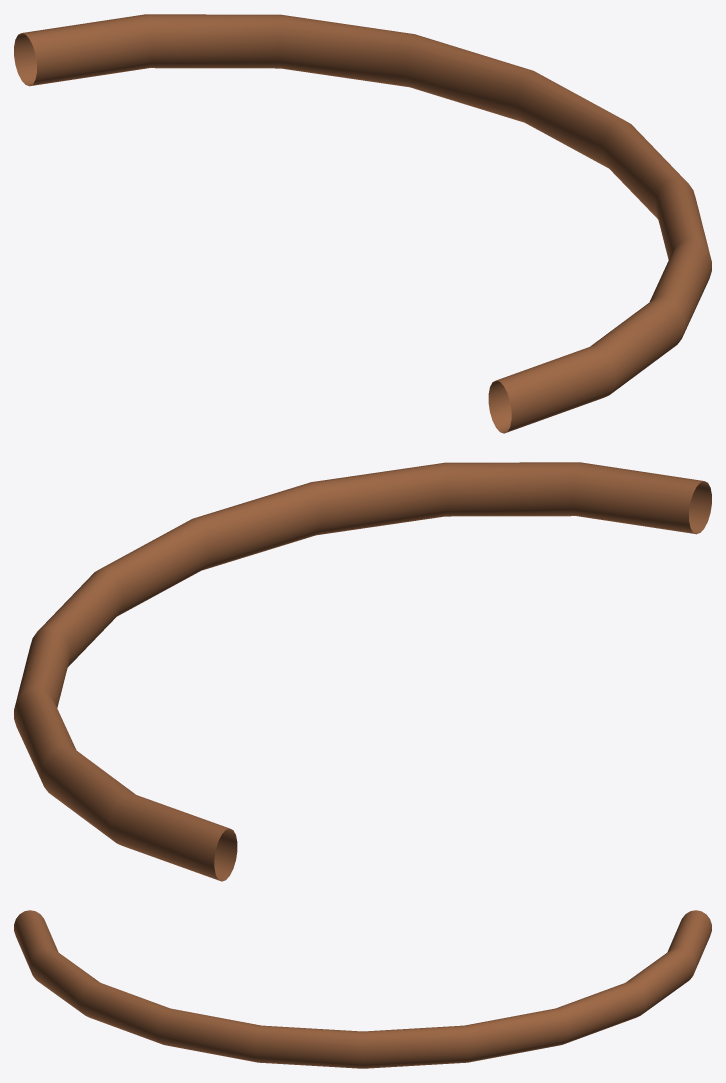
The model's file is cadenas_anse.fbx.
3 views of the same model, one above another, from view 1: azimuth 30°, elevation 25°; view 2: azimuth 150°, elevation 25°; view 3: azimuth 270°, elevation 25° (orthographic). The views are drawn at different scales.
Visible parts, largest first — view 1: Object054; view 2: Object054; view 3: Object054.
Part boxes in pixels (bbox=[...]): Object054: bbox=[14, 14, 711, 433]; Object054: bbox=[14, 462, 711, 881]; Object054: bbox=[14, 910, 711, 1068].
Bounding box in the file's own units: 0.0919 × 0.0118 × 0.2114.
